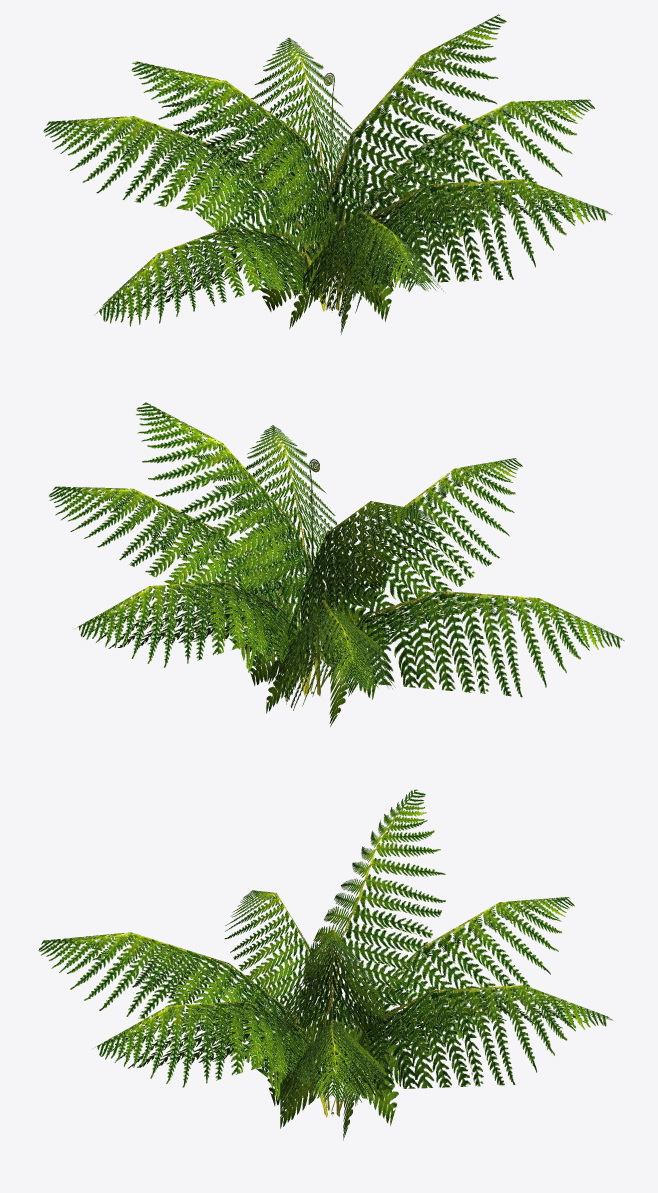
The model's file is fern.glb.
3 renders of one model, top to bottom at view 1: azimuth 30°, elevation 25°; view 2: azimuth 150°, elevation 25°; view 3: azimuth 270°, elevation 25°, orthographic.
Visible parts, largest first — view 1: fern; view 2: fern; view 3: fern.
Boxes of the visible parts, x1,y1,x2,y2 form: fern: [43, 14, 612, 334]; fern: [49, 402, 624, 726]; fern: [38, 789, 613, 1140].
Bounding box in the file's own units: 3.36 × 1.7 × 3.27.
2 materials, 2 textured.
